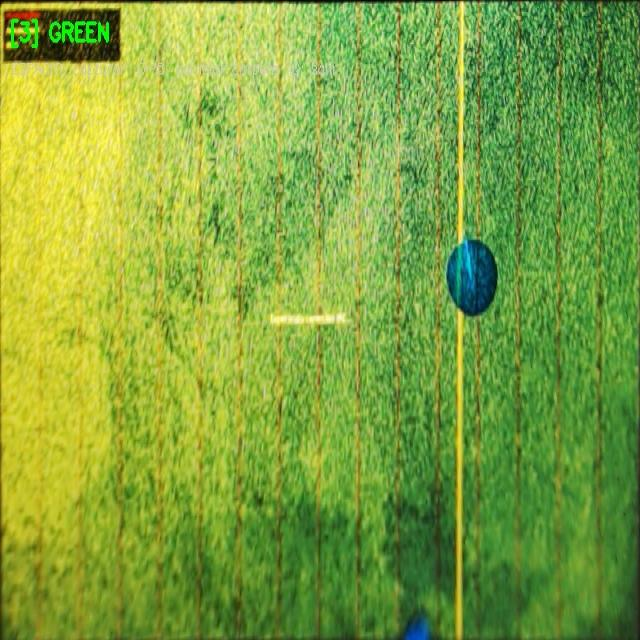green: (445, 232, 500, 316)
